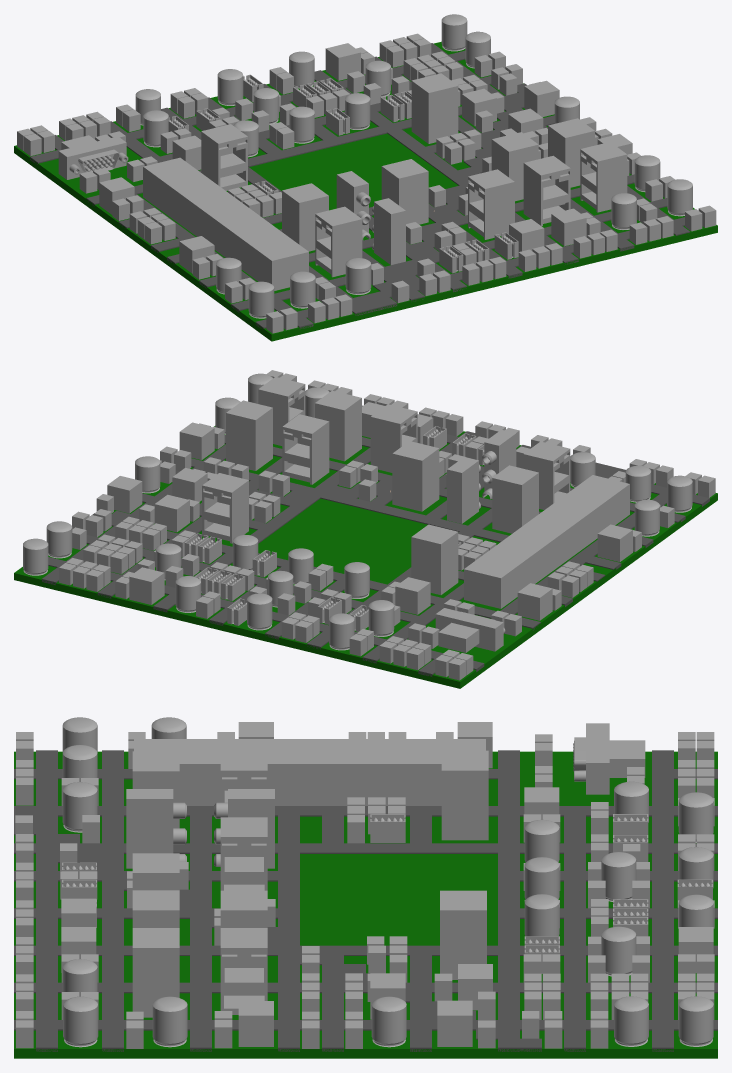
Rendered from Map.fbx.
3 views of the same model, one above another, from view 1: azimuth 30°, elevation 25°; view 2: azimuth 150°, elevation 25°; view 3: azimuth 270°, elevation 25° (orthographic). The views are drawn at different scales.
Visible parts, largest first — view 1: polySurface1, pCube20, pCube244, pCube139, pCube32, pCube1, pCube23, pCube204, pCube209, pCube33, pCube200, pCube36 (+32 smaller); view 2: pCube20, polySurface1, pCube244, pCube33, pCube29, pCube26, pCube139, pCube209, pCube200, pCube1, pCube11, pCube32 (+28 smaller); view 3: polySurface1, pCube20, pCube244, pCube209, pCube23, pCube139, pCube26, pCube33, pCube36, pCube11, pCube204, pCube200 (+40 smaller).
Boxes of the visible parts, left/top/right/bottom form: polySurface1: left=30, top=43, right=689, bottom=329; pCube20: left=14, top=41, right=717, bottom=341; pCube244: left=143, top=157, right=308, bottom=290; pCube139: left=411, top=73, right=458, bottom=143; pCube32: left=468, top=169, right=514, bottom=239; pCube1: left=523, top=155, right=570, bottom=226; pCube23: left=580, top=142, right=627, bottom=212; pCube204: left=315, top=206, right=362, bottom=277; pCube209: left=201, top=124, right=247, bottom=190; pCube33: left=381, top=159, right=428, bottom=224; pCube200: left=282, top=183, right=328, bottom=251; pCube36: left=374, top=198, right=405, bottom=264; pCube20: left=14, top=426, right=717, bottom=688; polySurface1: left=42, top=405, right=709, bottom=676; pCube244: left=464, top=475, right=629, bottom=608; pCube33: left=392, top=441, right=439, bottom=511; pCube29: left=282, top=414, right=329, bottom=484; pCube26: left=226, top=400, right=272, bottom=470; pCube139: left=202, top=473, right=248, bottom=543; pCube209: left=411, top=524, right=458, bottom=594; pCube200: left=492, top=465, right=538, bottom=533; pCube1: left=315, top=390, right=361, bottom=461; pCube11: left=435, top=608, right=503, bottom=652; pCube32: left=370, top=404, right=417, bottom=472; polySurface1: left=14, top=750, right=717, bottom=1051; pCube20: left=14, top=751, right=717, bottom=1058; pCube244: left=134, top=739, right=485, bottom=805; pCube209: left=441, top=750, right=488, bottom=840; pCube23: left=132, top=928, right=179, bottom=1017; pCube139: left=440, top=890, right=486, bottom=979; pCube26: left=220, top=928, right=267, bottom=1014; pCube33: left=220, top=817, right=267, bottom=890; pCube36: left=126, top=789, right=173, bottom=868; pCube11: left=586, top=723, right=645, bottom=794; pCube204: left=132, top=751, right=179, bottom=828; pCube200: left=220, top=750, right=267, bottom=802.
Bounding box in the file's own units: 3000 × 400 × 3000.
